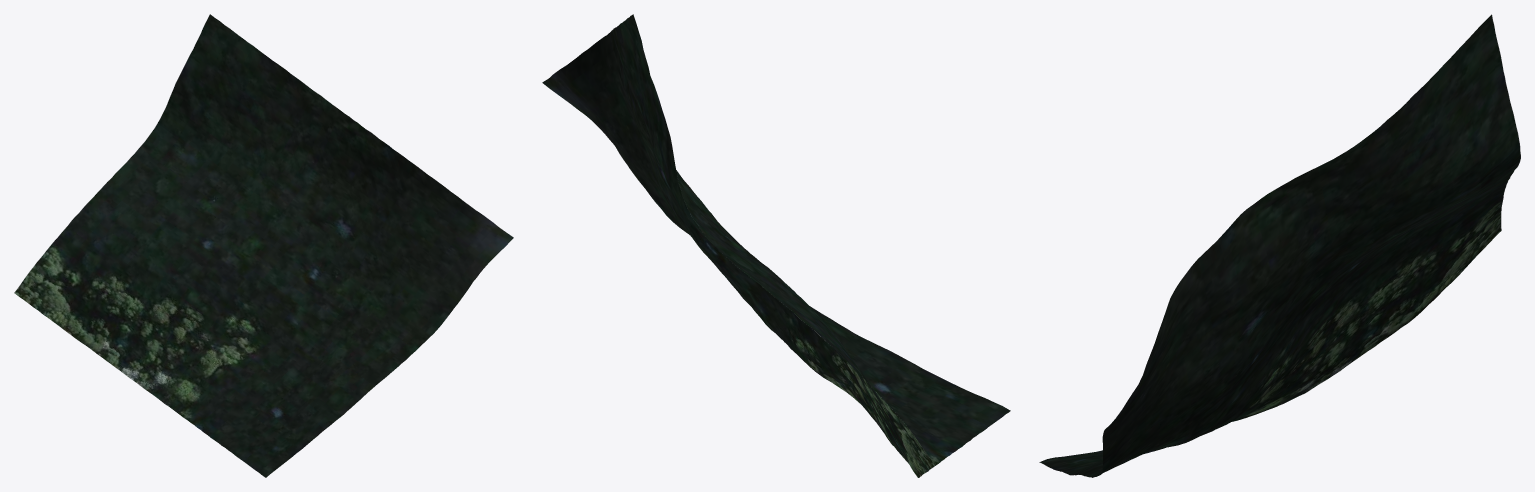
3 views of the same model, side by side, from view 1: azimuth 30°, elevation 25°; view 2: azimuth 150°, elevation 25°; view 3: azimuth 270°, elevation 25° (orthographic). The views are drawn at different scales.
Bounding box in the file's own units: 356 × 305 × 258.
1 material, 1 textured.
